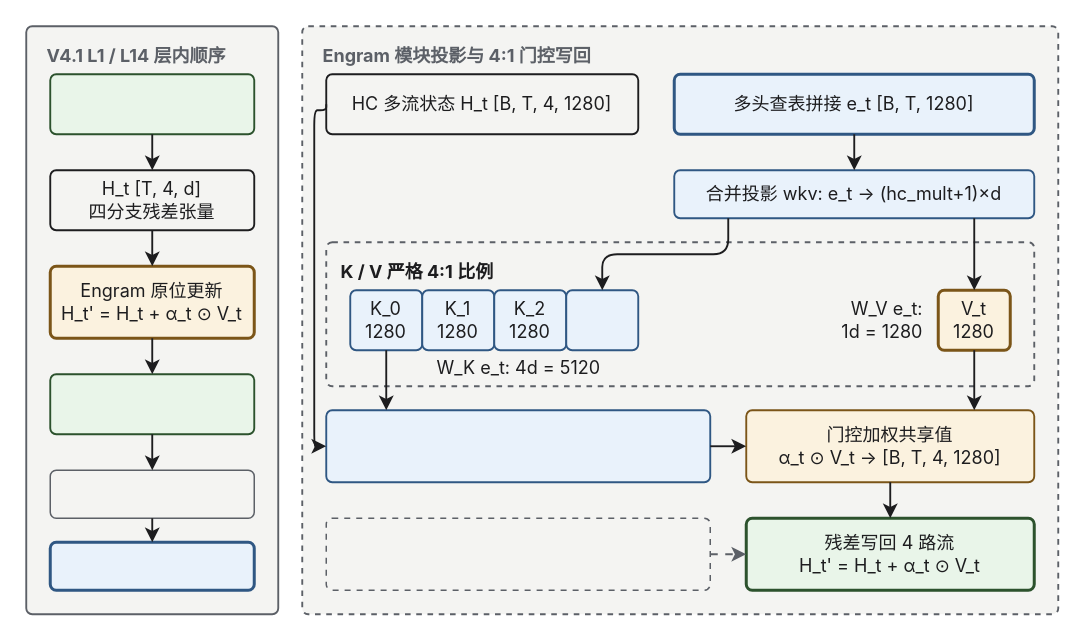
This 1086x642 diagram has some shape labels left out. Each missing label, with the centre of its shape:
[T, d] 单流激活: the point at 151,493
K_3 1280: the point at 602,320
RMSNorm(H_t) · RMSNorm(K_t) / √d → sign(z)√|z| → σ = α_t [B, T, 4, 1]: the point at 518,446
V3.5 论文: + ShortConv(δ=3, SiLU) V4.1 工程化: 无状态化移除卷积: the point at 517,553
上一层 mhc_post 输出四分支状态: the point at 152,104
本层 Attention → MoE: the point at 151,565
本层 mhc_pre 聚合四流 → 单流: the point at 152,404
